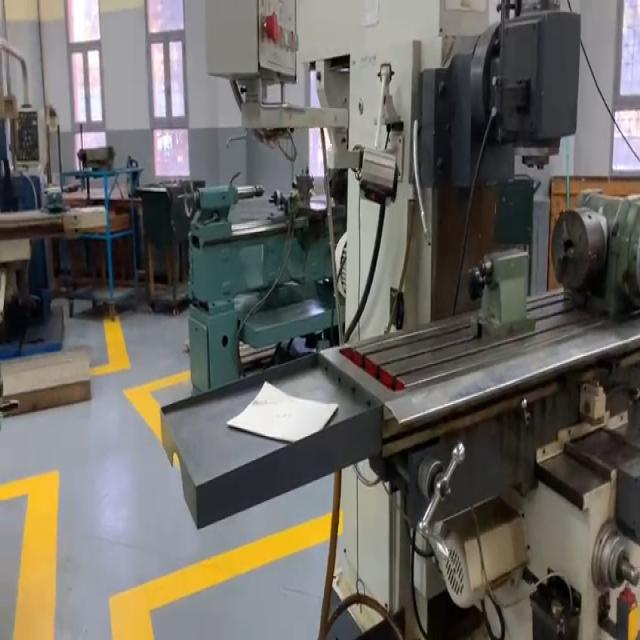fraiseuse: (160, 0, 639, 638)
